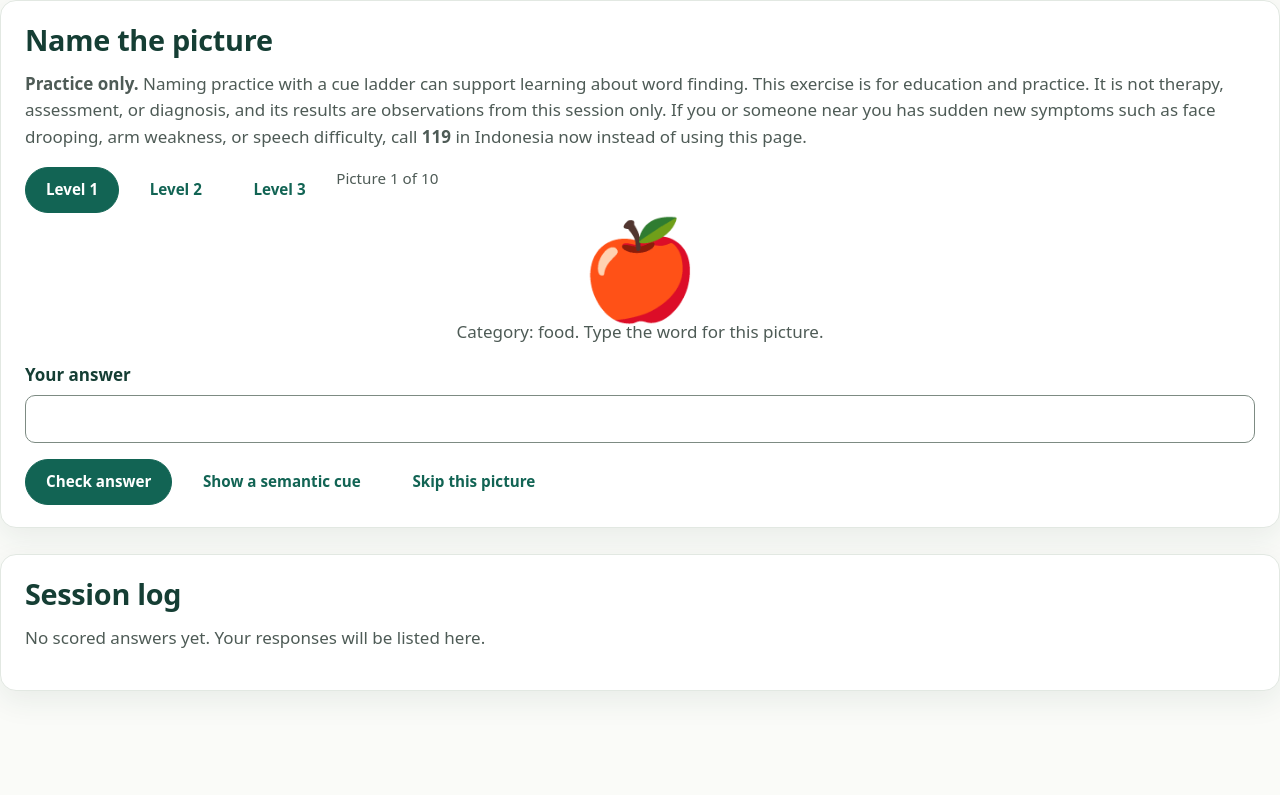
AphasiaExpressionLab › reveals the semantic cue after a miss and still lets the learner score
Type "bicycle" into the field labelled "Your answer".
click(640, 419); type("bicycle")  # box [25,395,1255,442]
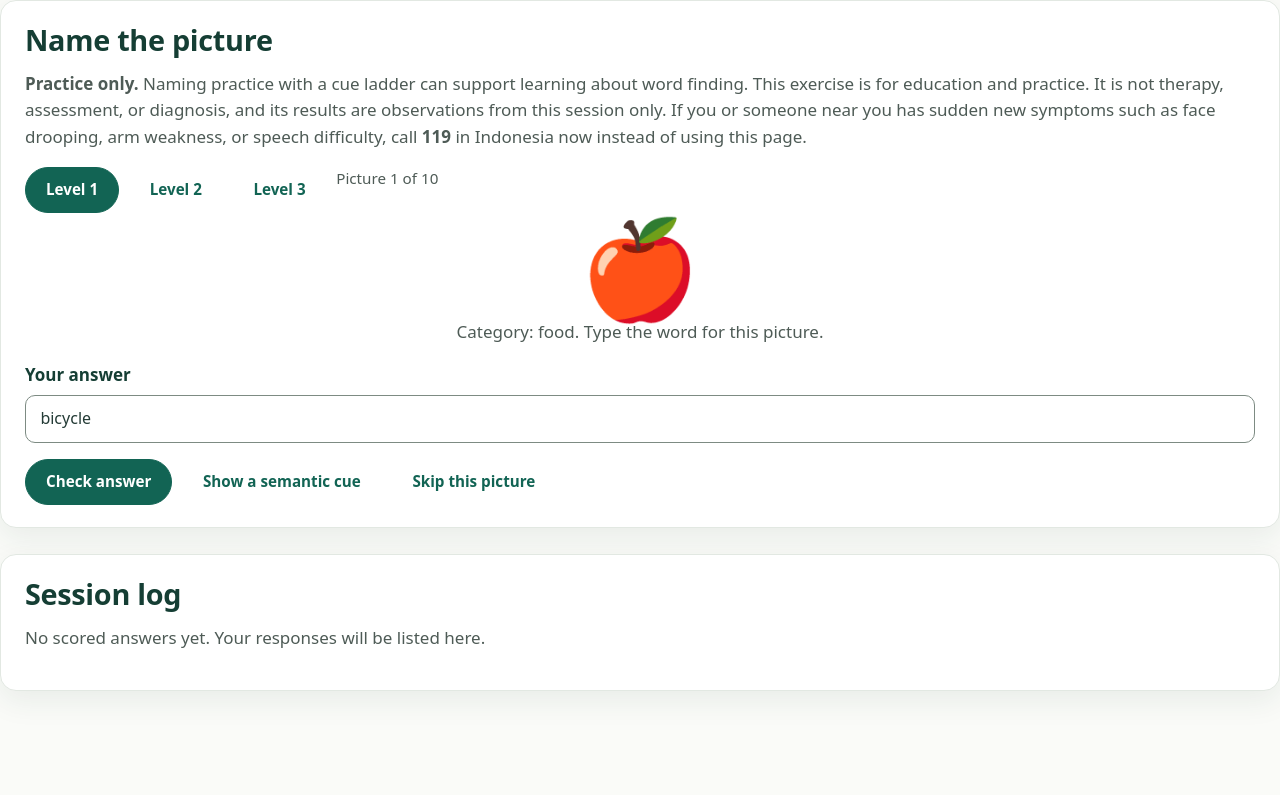
Click the button "Check answer".
click(99, 482)  # box [25,458,172,505]
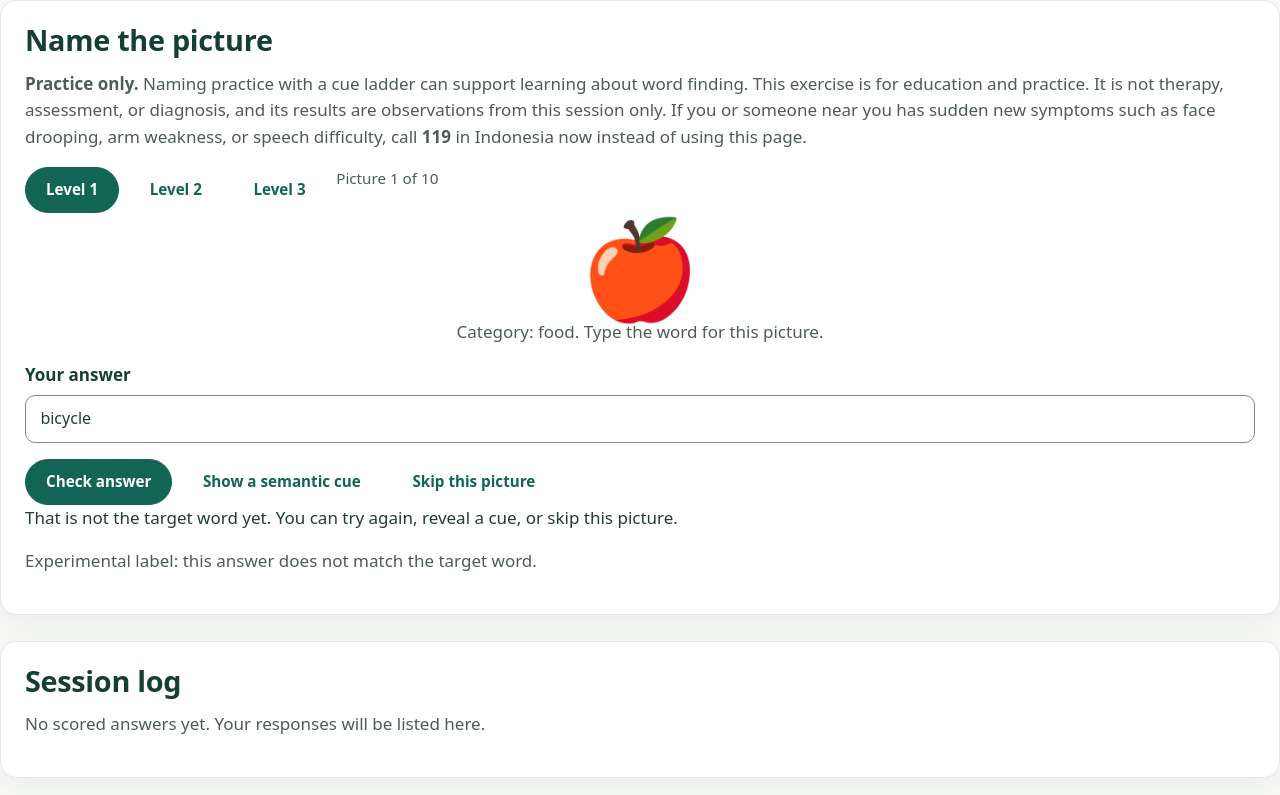
Now the text "That is not the target word yet" is shown, box [25,506,678,529]
Click the button "Show a semantic cue".
click(282, 482)  # box [182,458,382,505]
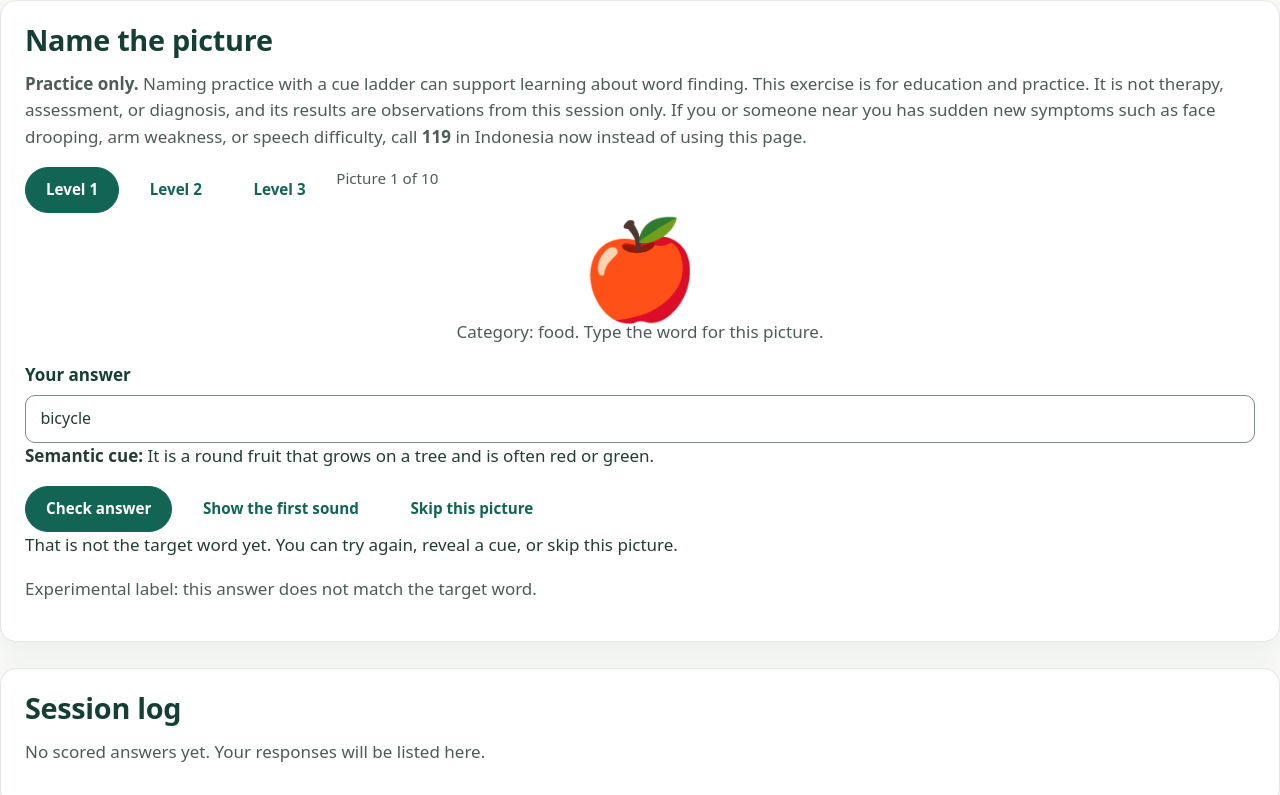
Now the text "round fruit that grows on a tree" is shown, box [148,444,654,466]
Replace the text in the field labelled "Your answer" with "apple" at (640, 419), box [25,395,1255,442]
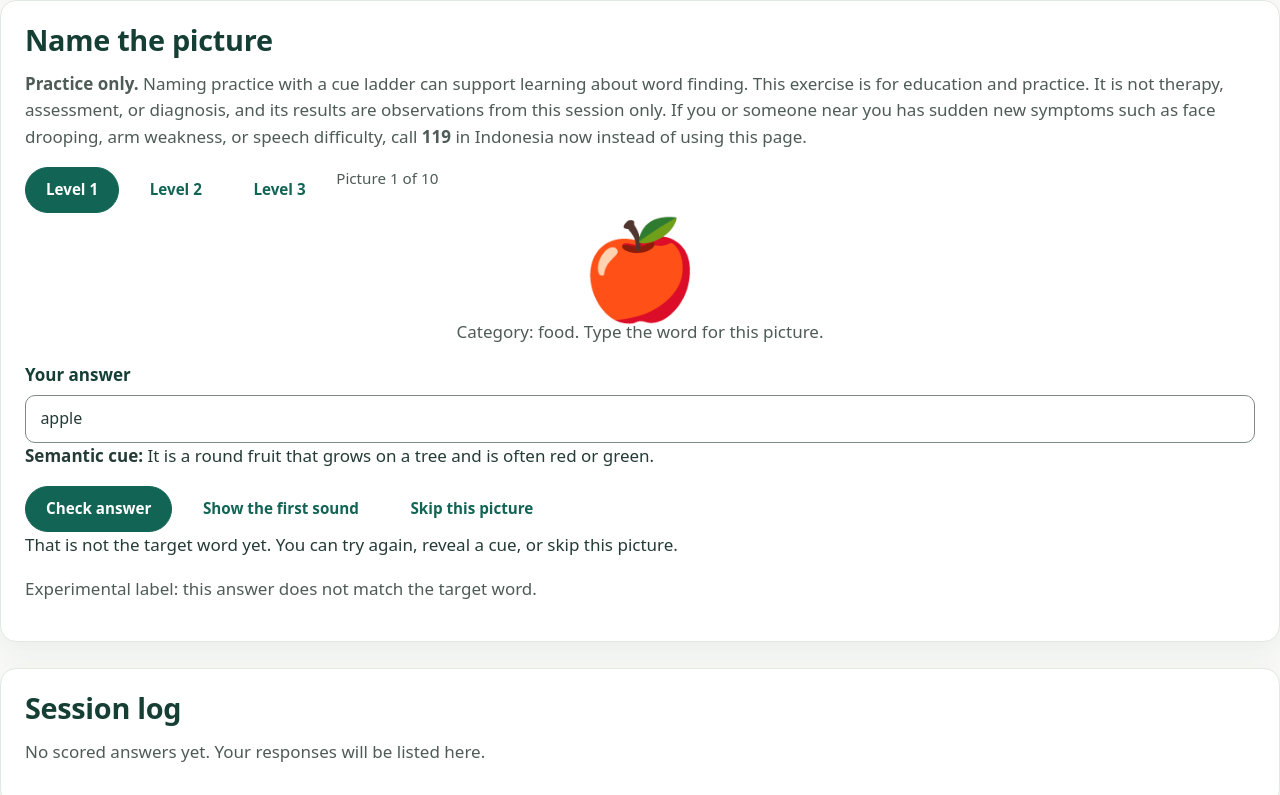
Click the button "Check answer".
click(99, 509)  # box [25,486,172,532]
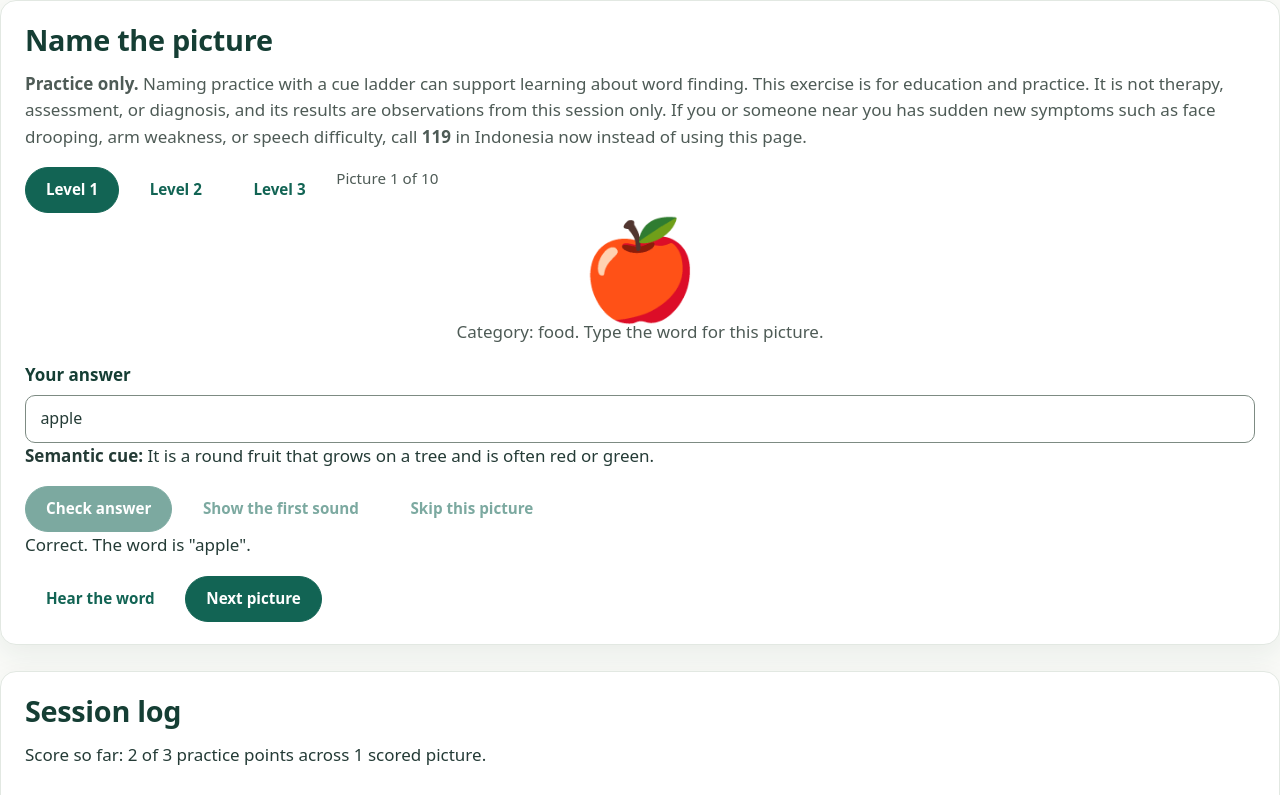
Now the text "Correct. The word is \"apple\"." is shown, box [25,533,251,556]
Now the text "Score so far: 2 of 3 practice points" is shown, box [25,743,486,766]
